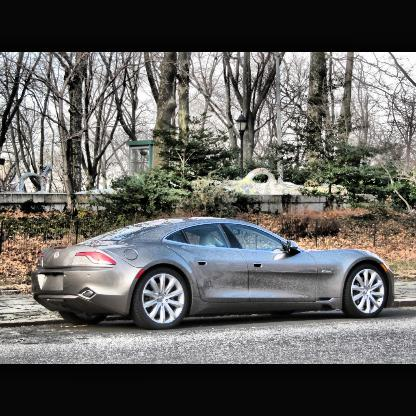Fisker Karma Sedan 2012: (31, 218, 397, 331)
